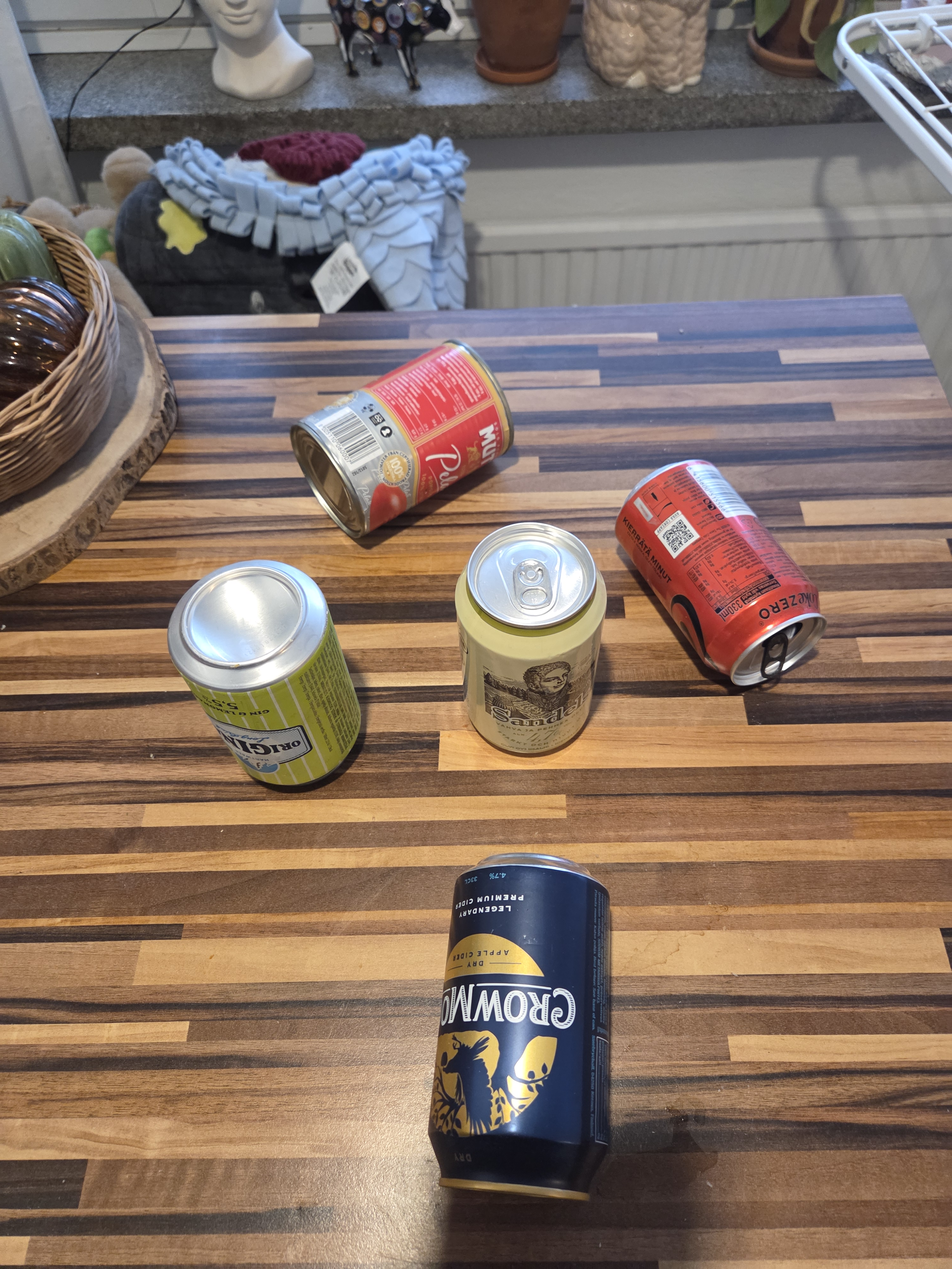Konservburk: (290, 338, 515, 538)
Pantburk: (427, 852, 610, 1201), (167, 559, 362, 787), (564, 540, 740, 772), (455, 523, 607, 754)
